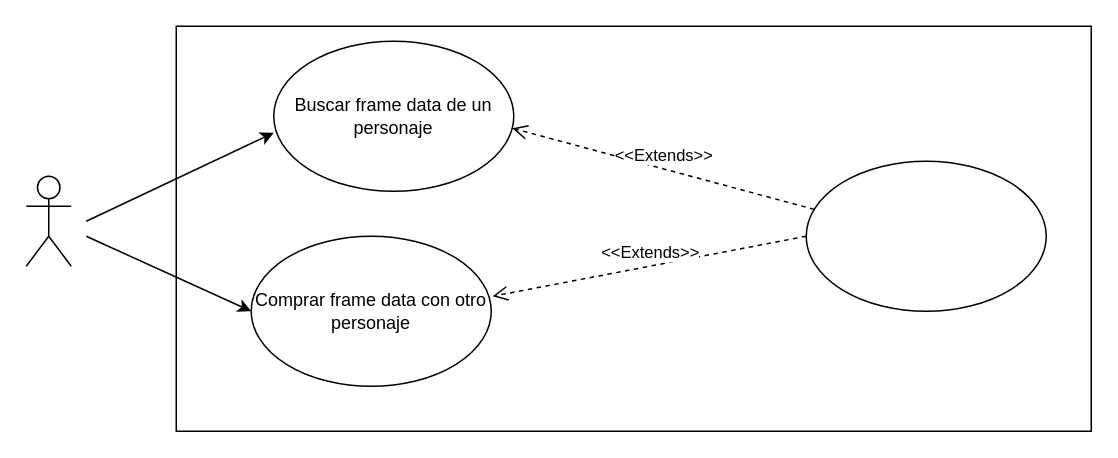
The diagram is 1118 pixels wide and 458 high, and some of its shapes have lost their labels. The centre of each missing label's shape, as x and y in pixels:
sistema de comandos y base de datos: point 925,235
User: point 48,220
